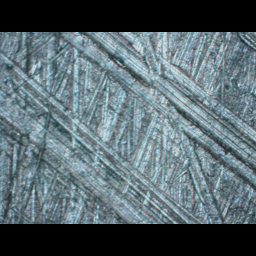d: (0, 51, 206, 224), (57, 32, 256, 188)
